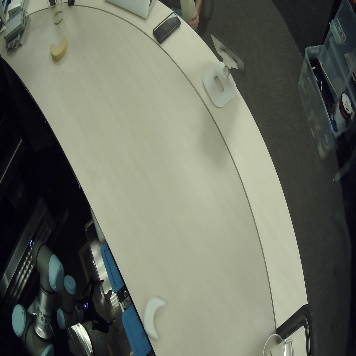empty_cup: (257, 330, 296, 356), (47, 1, 64, 25)
puck: (142, 295, 167, 341), (50, 37, 69, 62)
